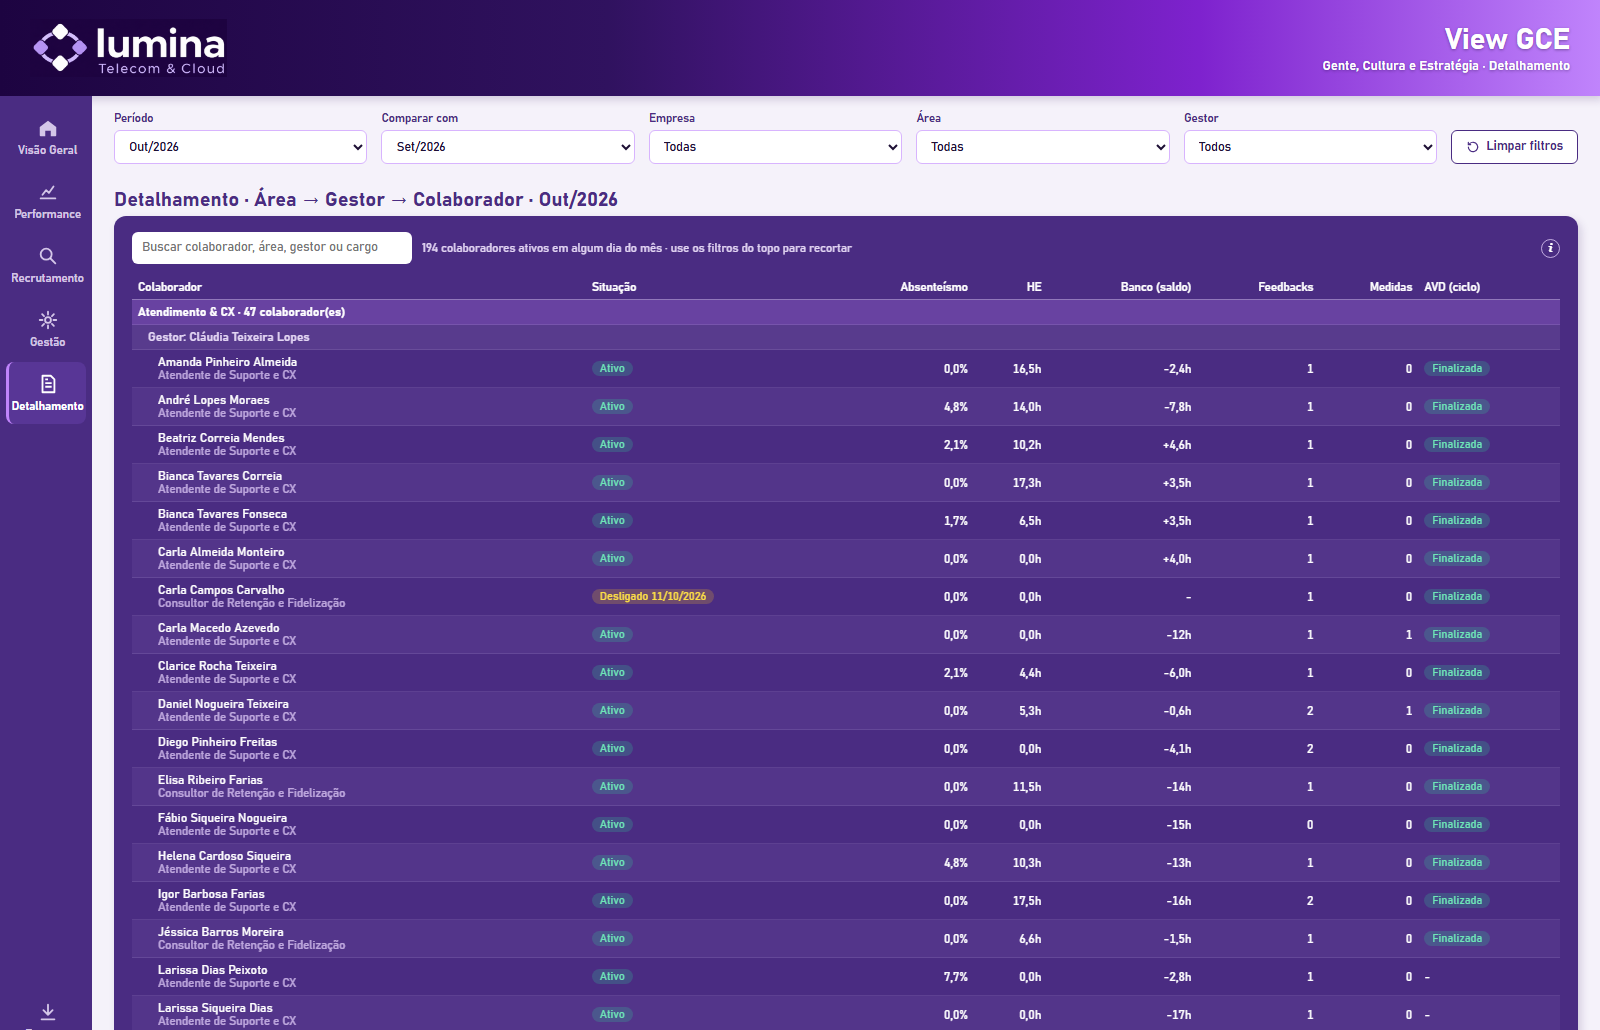

The page's visual inventory and layout, read from the dashboard file:
{"tool":"powerbi","page":{"name":"Detalhamento","canvas":[1600,1034],"ordinal":4},"visuals":[{"type":"image","box":[0,0,1606,112],"z":0},{"type":"tableEx","title":"Indicadores do mês por colaborador","fields":{"Values":["Colaborador.area","Colaborador.gestor","Colaborador.nome","Colaborador.cargo","_Medidas.Detalhe situação (texto)","_Medidas.Absenteísmo %","_Medidas.HE horas","_Medidas.Banco saldo total (h)","_Medidas.Feedbacks","_Medidas.Medidas disciplinares","_Medidas.Detalhe AVD (texto)"]},"box":[10,236,1580,782],"z":1000},{"type":"textbox","box":[1060,22,532,68],"z":2000},{"type":"textbox","box":[10,202,1580,30],"z":3000},{"type":"slicer","fields":{"Values":["Colaborador.area"]},"box":[964,113,310,81],"z":4000},{"type":"slicer","fields":{"Values":["Colaborador.gestor"]},"box":[1281,113,310,81],"z":5000},{"type":"slicer","fields":{"Values":["Comparar com.Comparar com"]},"box":[330,113,310,81],"z":6000},{"type":"slicer","fields":{"Values":["Colaborador.empresa"]},"box":[647,113,310,81],"z":7000},{"type":"slicer","fields":{"Values":["Calendario.mes_rotulo"]},"box":[13,113,310,81],"z":8000},{"type":"actionButton","box":[1560,244,22,22],"z":9000}]}

Visuals, with their boxes in screenshot pixels (x1, y1, x2, y2):
image: bbox=[75, 0, 1596, 94]
"Indicadores do mês por colaborador" tableEx: bbox=[84, 211, 1580, 951]
textbox: bbox=[1079, 8, 1582, 73]
textbox: bbox=[84, 179, 1580, 207]
slicer - Colaborador.area: bbox=[988, 94, 1281, 171]
slicer - Colaborador.gestor: bbox=[1288, 94, 1581, 171]
slicer - Comparar com.Comparar com: bbox=[387, 94, 681, 171]
slicer - Colaborador.empresa: bbox=[688, 94, 981, 171]
slicer - Calendario.mes_rotulo: bbox=[87, 94, 381, 171]
actionButton: bbox=[1552, 219, 1573, 239]
